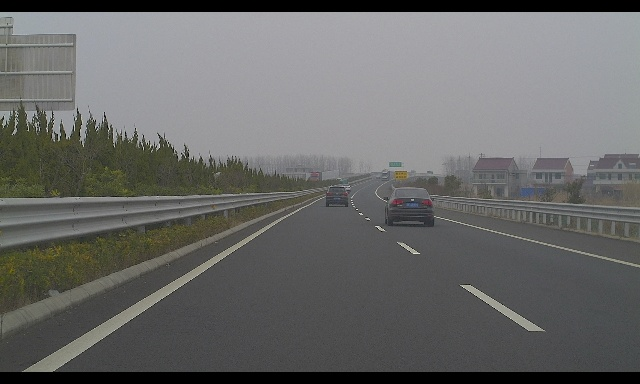car: (383, 187, 435, 226), (325, 185, 350, 207), (342, 184, 351, 192), (336, 178, 342, 183), (376, 175, 380, 179)
truck: (309, 172, 322, 184), (381, 168, 390, 181), (410, 170, 416, 176)
